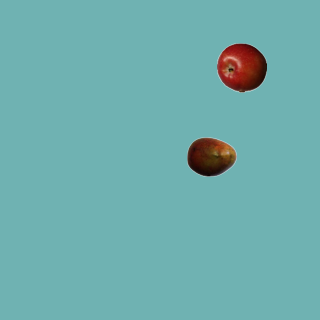Apple Braeburn: (216, 42, 266, 92)
Mango Red: (186, 131, 236, 181)
